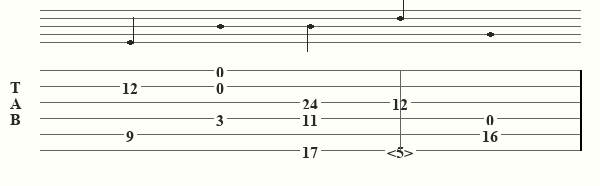0: (216, 63, 228, 78), (216, 79, 228, 94), (486, 111, 498, 126)
11: (302, 111, 322, 126)
12: (122, 79, 142, 94), (392, 95, 412, 110)
16: (482, 127, 502, 142)
17: (302, 143, 322, 158)
24: (302, 95, 322, 110)
3: (216, 111, 228, 126)
9: (126, 127, 138, 142)
harmonic: (387, 143, 417, 158)
